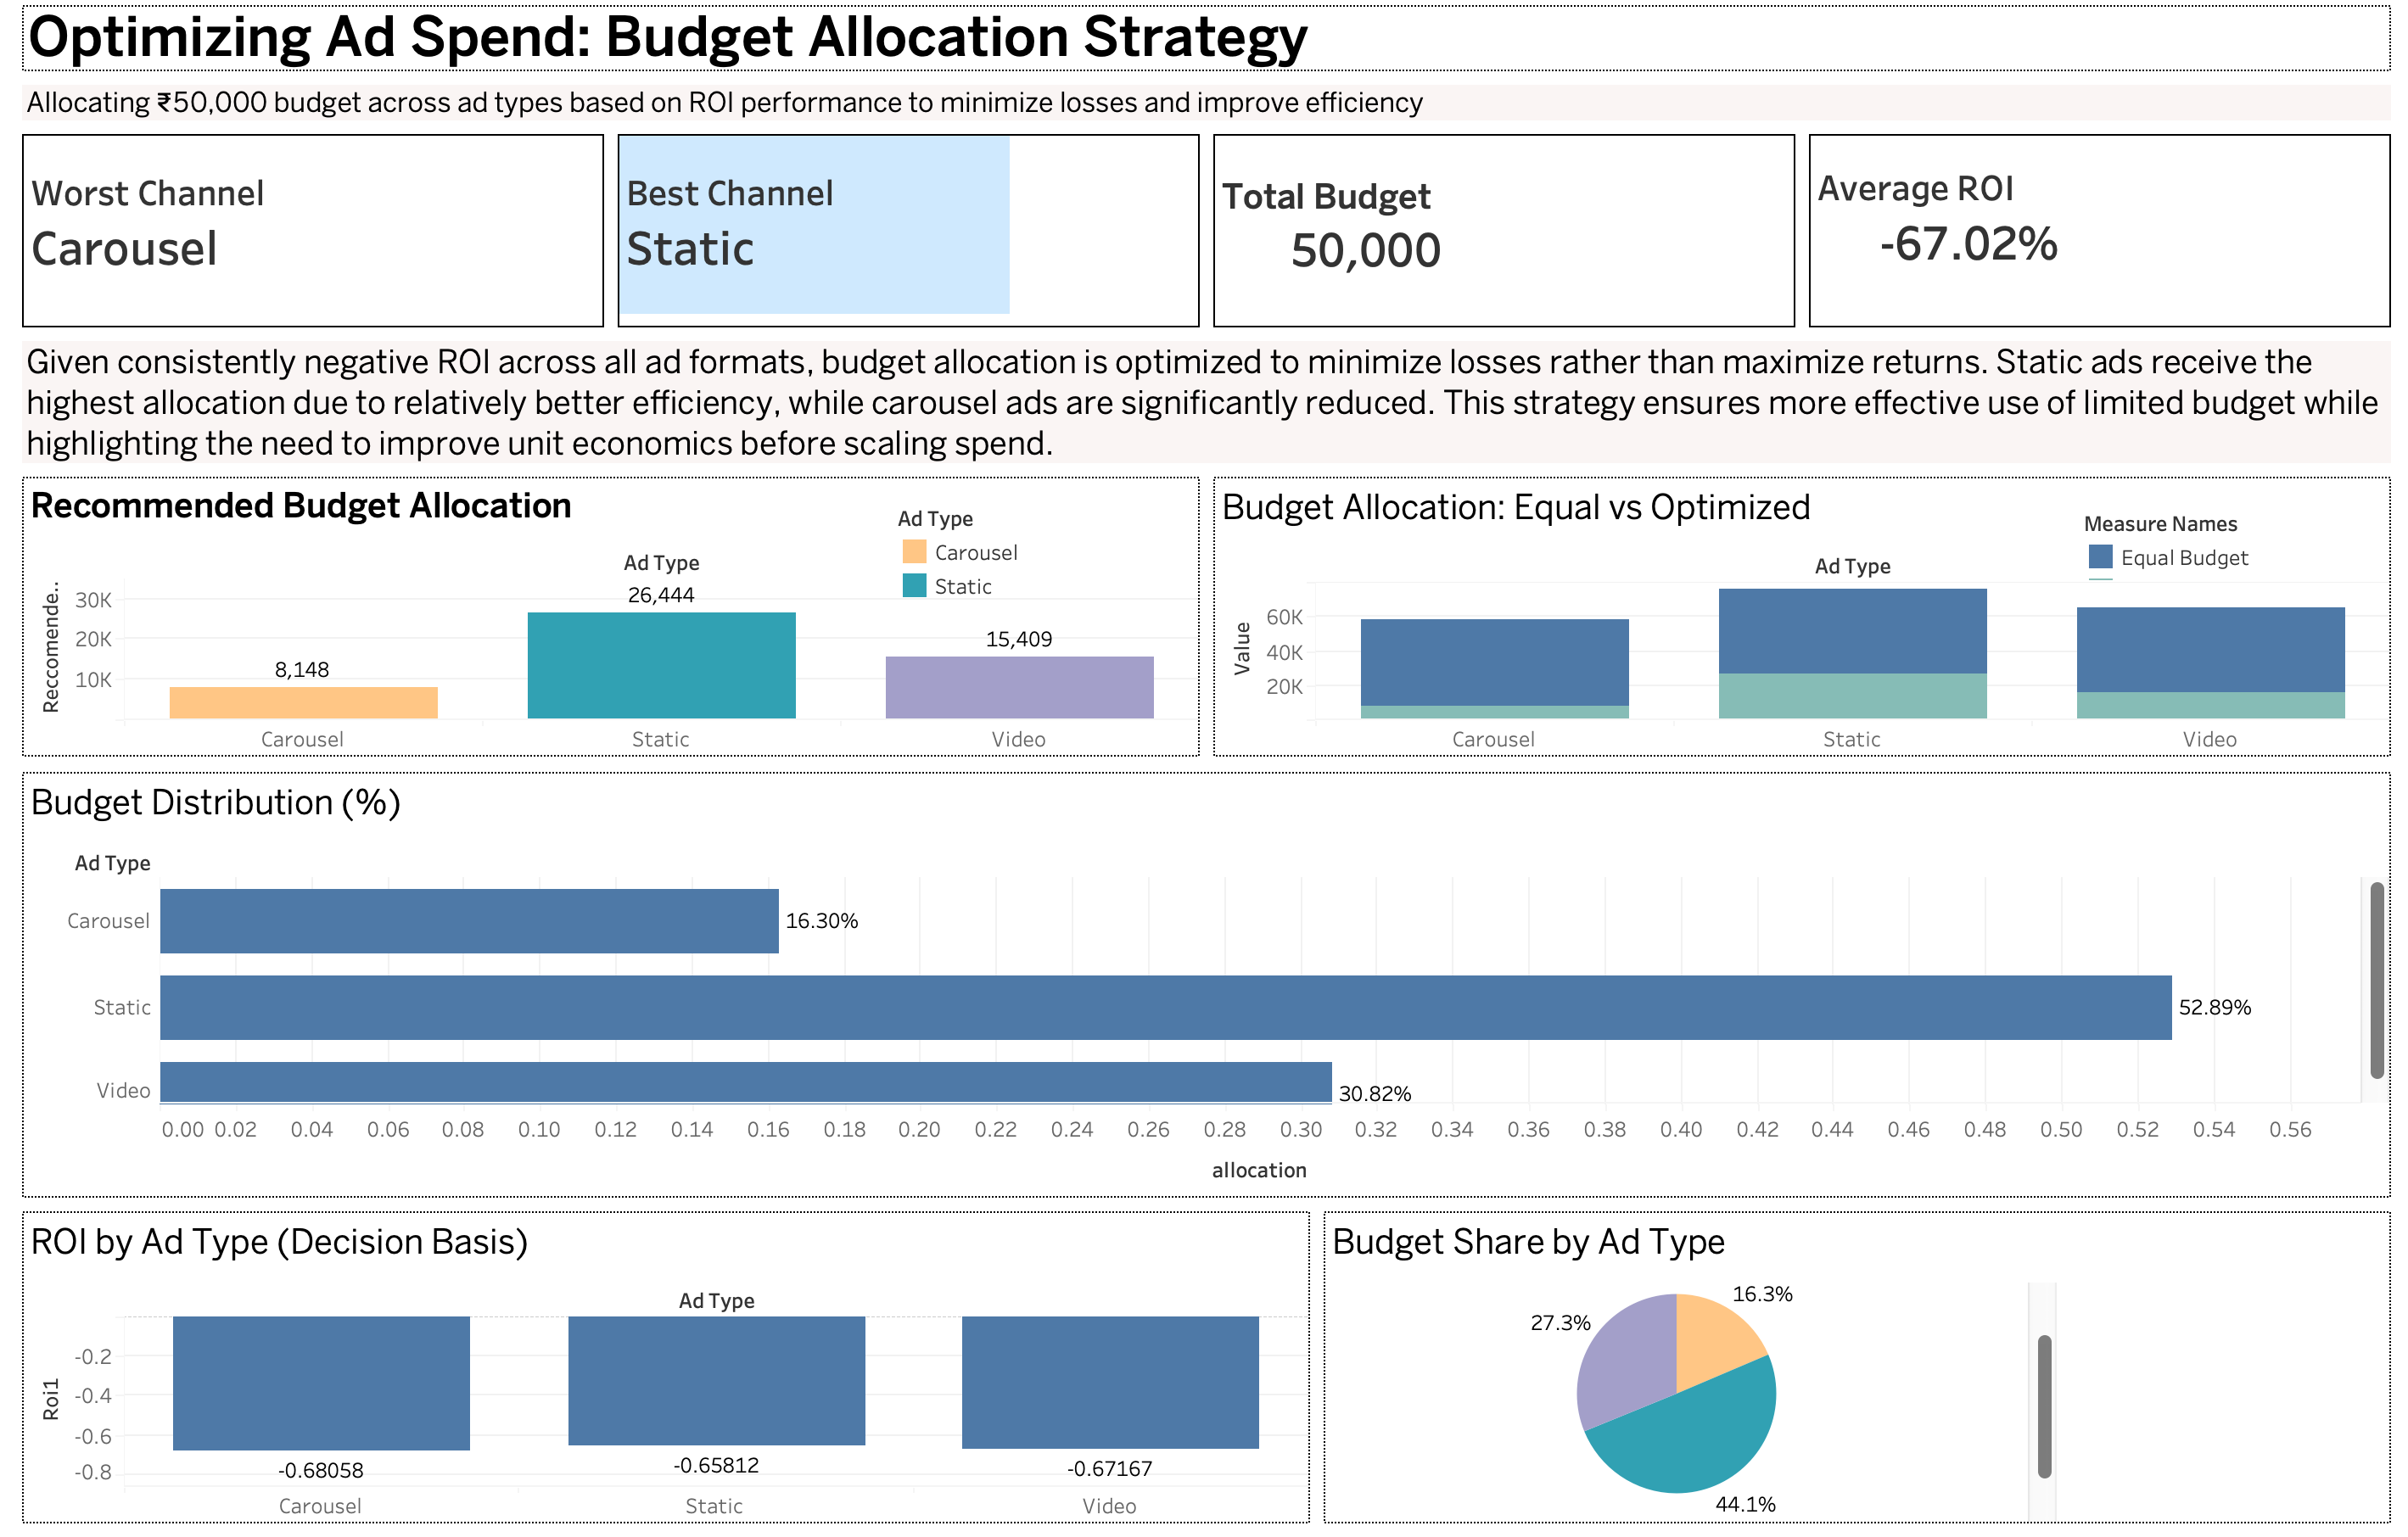

Layout of this report page (visuals, bound fields, positions):
{"tool":"tableau","page":{"name":"Dashboard 3","canvas":[1000,1000],"units":"permille","ordinal":2},"visuals":[{"type":"title","box":[6.2,6.4,987.6,37.3]},{"type":"text","box":[6.2,43.6,987.6,23]},{"type":"worksheet","title":"Sheet 23","mark":"Automatic","box":[6.2,66.7,246.9,96.8]},{"type":"worksheet","title":"Sheet 24","mark":"Automatic","box":[253.1,66.7,246.9,96.8]},{"type":"worksheet","title":"Sheet 22","mark":"Automatic","box":[500,66.7,246.9,96.8]},{"type":"worksheet","title":"Sheet 25","mark":"Automatic","box":[746.9,66.7,246.9,96.8]},{"type":"text","box":[6.2,163.5,987.6,63.5]},{"type":"worksheet","title":"Sheet 17","mark":"Automatic","rows":["Calculation_6221718456991754"],"cols":["ad_type"],"box":[6.2,227,493.8,273]},{"type":"worksheet","title":"Sheet 18","mark":"Automatic","cols":["ad_type"],"box":[500,227,493.8,273]},{"type":"legend","title":"Sheet 18","param":"[federated.1xzxzp50wovu3w1fzemxj0erbc8a].[:Measure Names]","box":[864.3,246.8,115.5,46]},{"type":"legend","title":"Sheet 17","param":"[federated.1xzxzp50wovu3w1fzemxj0erbc8a].[none:ad_type:nk]","box":[376.7,249.2,108.5,61.9]},{"type":"worksheet","title":"Sheet 19","mark":"Automatic","rows":["ad_type"],"box":[6.2,500,987.6,230.2]},{"type":"worksheet","title":"Sheet 20","mark":"Automatic","rows":["Calculation_6221718442508295"],"cols":["ad_type"],"box":[6.2,730.2,493.8,263.5]},{"type":"worksheet","title":"Sheet 21","mark":"Pie","box":[500,730.2,493.8,263.5]}]}

Visuals, with their boxes on the dashboard's canvas, which has no fixed pixel size, in thousandths of its width and height (x1, y1, x2, y2). These are canvas units, not pixel positions in the 2408x1537 screenshot, which may show the page scaled, cropped or inside an application window:
title: pyautogui.locateOnScreen(6, 6, 994, 44)
text: pyautogui.locateOnScreen(6, 44, 994, 67)
"Sheet 23" worksheet: pyautogui.locateOnScreen(6, 67, 253, 164)
"Sheet 24" worksheet: pyautogui.locateOnScreen(253, 67, 500, 164)
"Sheet 22" worksheet: pyautogui.locateOnScreen(500, 67, 747, 164)
"Sheet 25" worksheet: pyautogui.locateOnScreen(747, 67, 994, 164)
text: pyautogui.locateOnScreen(6, 164, 994, 227)
"Sheet 17" worksheet: pyautogui.locateOnScreen(6, 227, 500, 500)
"Sheet 18" worksheet: pyautogui.locateOnScreen(500, 227, 994, 500)
"Sheet 18" legend: pyautogui.locateOnScreen(864, 247, 980, 293)
"Sheet 17" legend: pyautogui.locateOnScreen(377, 249, 485, 311)
"Sheet 19" worksheet: pyautogui.locateOnScreen(6, 500, 994, 730)
"Sheet 20" worksheet: pyautogui.locateOnScreen(6, 730, 500, 994)
"Sheet 21" worksheet (Pie marks): pyautogui.locateOnScreen(500, 730, 994, 994)
